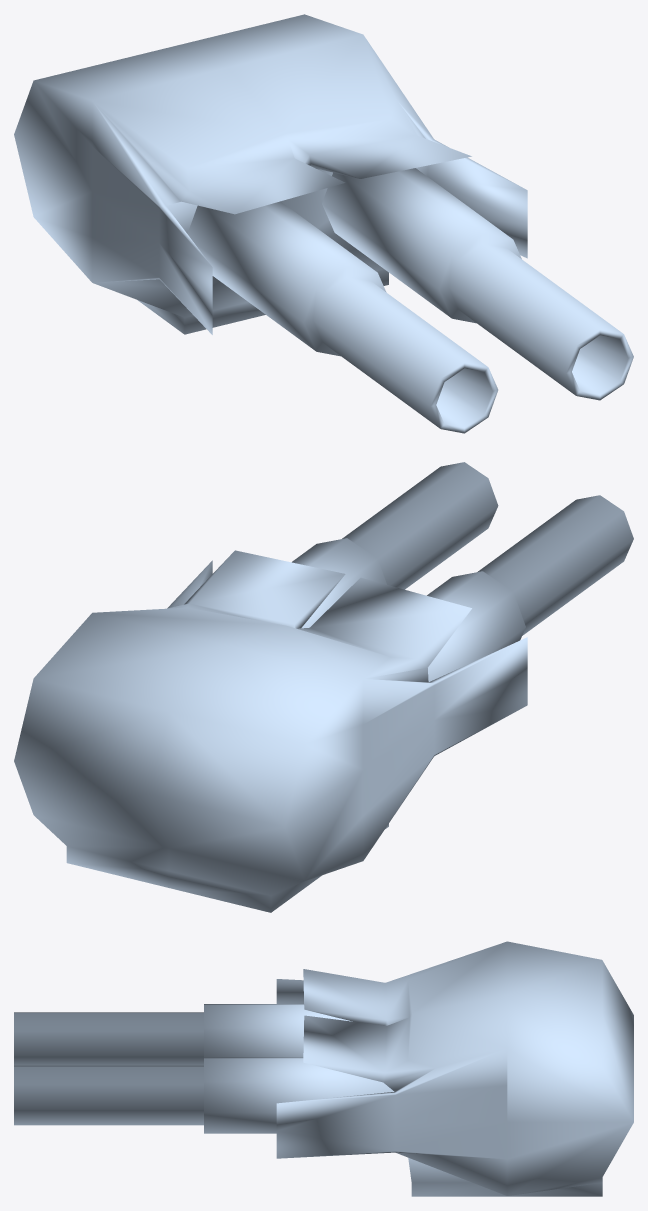
The model's file is turret1.obj.
3 renders of one model, top to bottom at view 1: azimuth 30°, elevation 25°; view 2: azimuth 150°, elevation 25°; view 3: azimuth 270°, elevation 25°, orthographic. The views are drawn at different scales.
Parts seen in each view (by area): view 1: cube1; view 2: cube1; view 3: cube1.
Boxes of the visible parts, left/top/right/bottom form: cube1: left=14, top=14, right=633, bottom=433; cube1: left=14, top=462, right=633, bottom=912; cube1: left=14, top=941, right=633, bottom=1196.
Bounding box in the file's own units: 0.409 × 0.2468 × 0.8607.
